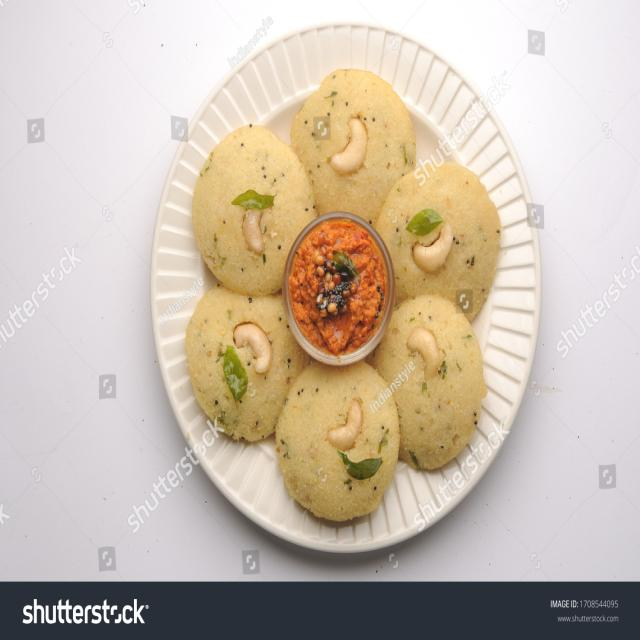IDLI: (192, 125, 317, 297), (375, 163, 501, 321), (275, 361, 399, 521), (374, 295, 486, 469), (291, 69, 415, 220), (185, 287, 306, 440)
